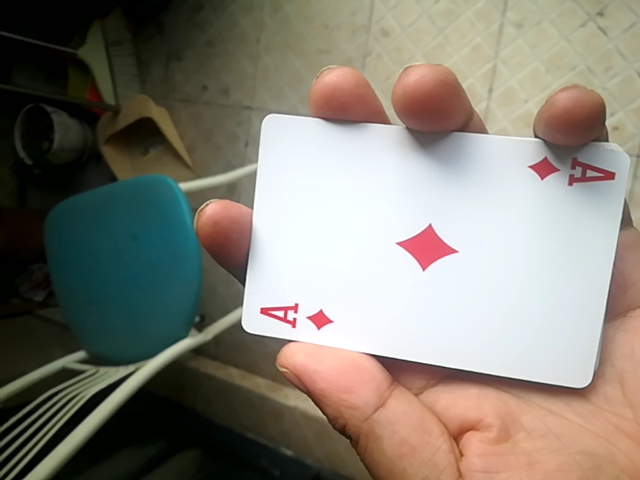fk a: (234, 117, 632, 389)
